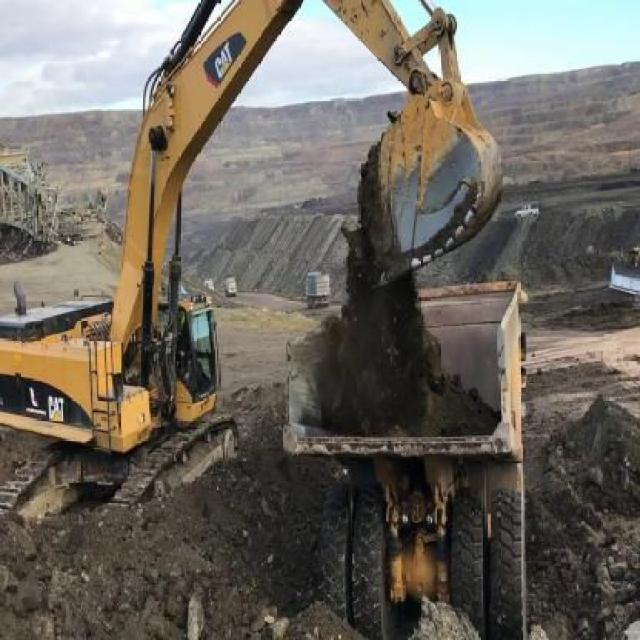dump_truck: (279, 283, 535, 639), (303, 268, 329, 306), (224, 274, 236, 295)
excavator: (0, 0, 503, 535)
